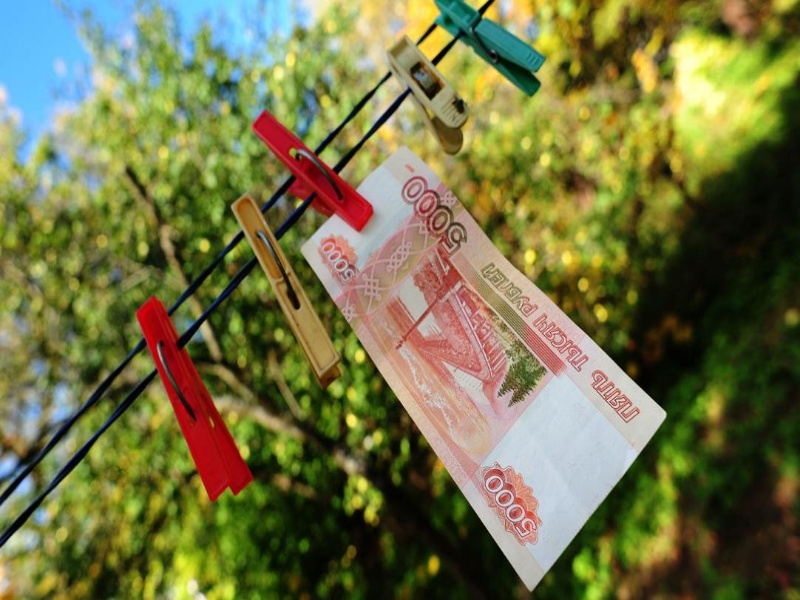cash: (302, 146, 667, 589)
